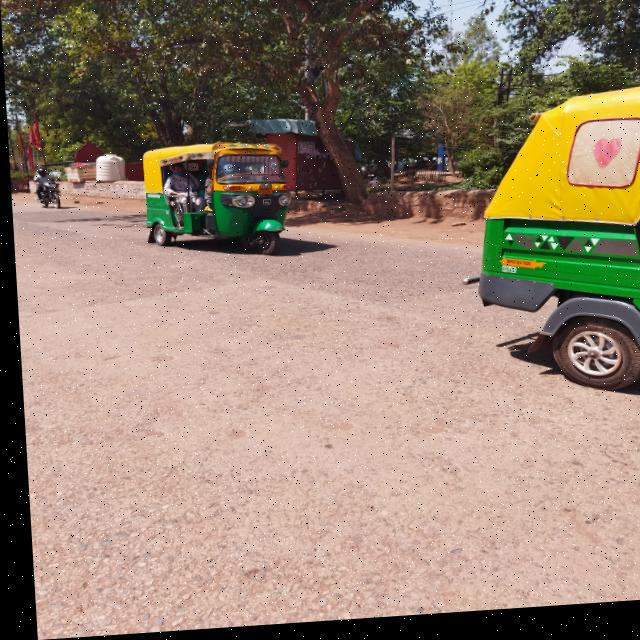plate: (500, 264, 530, 275), (254, 190, 271, 199), (45, 189, 55, 191)
